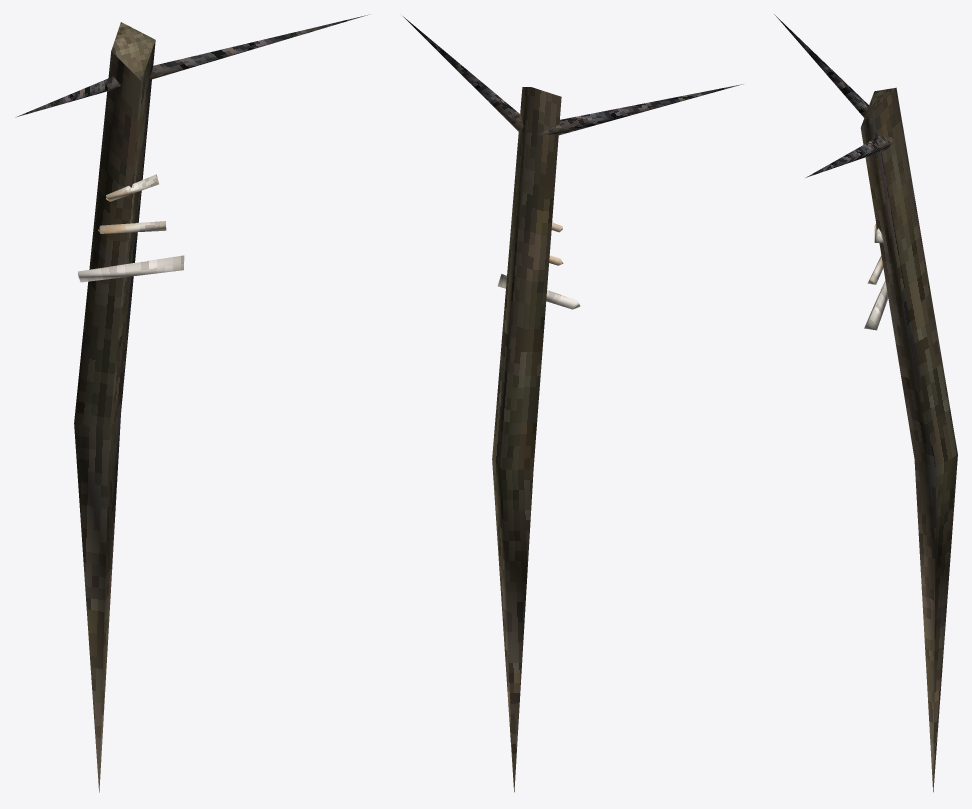
The model's file is thm_dant_boundary_post_l4.fbx.
The picture shows the model from 3 angles, left to right: view 1: azimuth 30°, elevation 25°; view 2: azimuth 150°, elevation 25°; view 3: azimuth 270°, elevation 25°; orthographic projection. The views are drawn at different scales.
Parts seen in each view (by area): view 1: mesh_node; view 2: mesh_node; view 3: mesh_node.
Part boxes in pixels (<box>): mesh_node: <box>15,14,368,792</box>; mesh_node: <box>403,16,743,792</box>; mesh_node: <box>774,14,957,792</box>.
Size of the model in its own units: 2.3 by 4.61 by 1.09.
